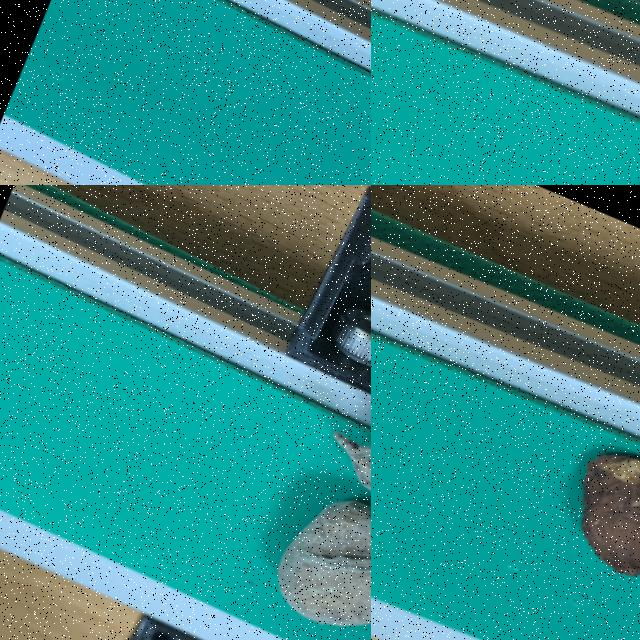Agglomerated_cocoabeans: (147, 330, 370, 639)
Flat_cocoabeans: (431, 351, 639, 625)
